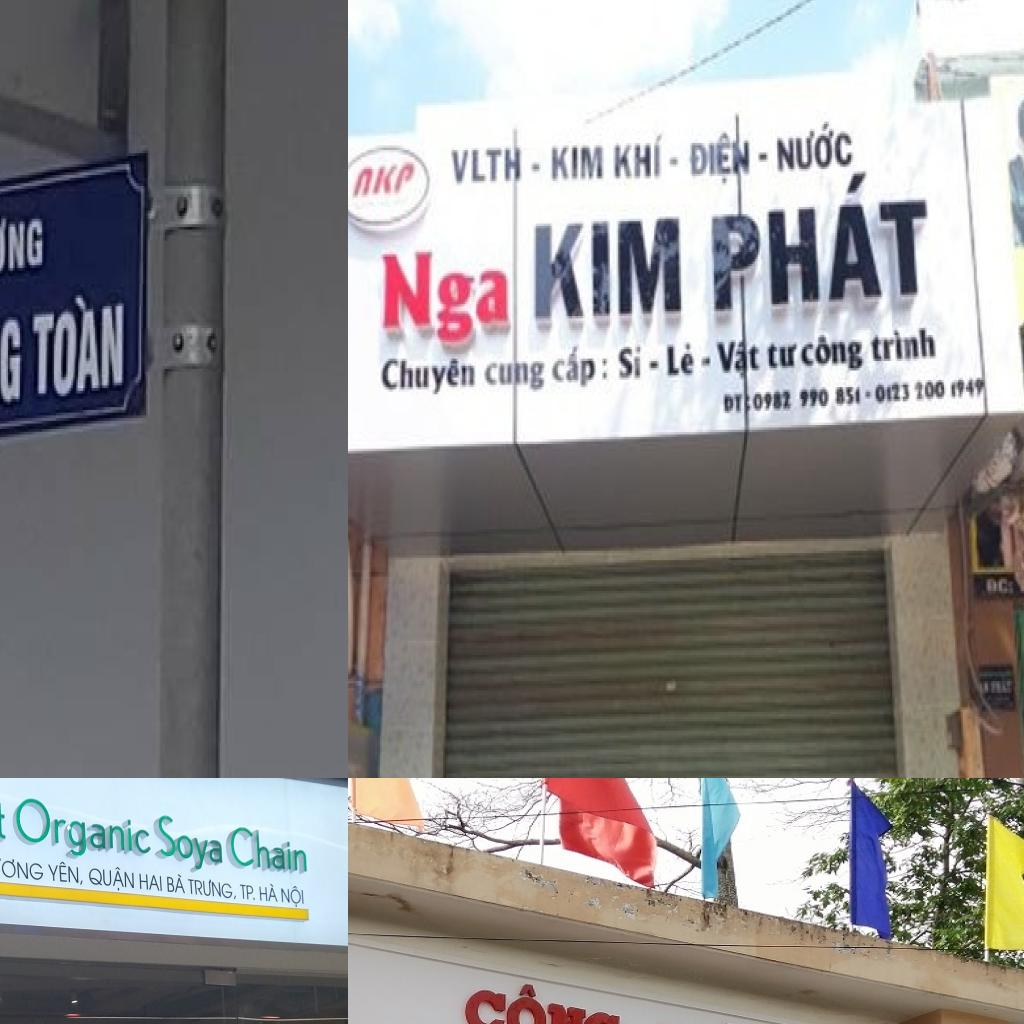text: (700, 164, 934, 321), (530, 207, 688, 328), (375, 240, 514, 347), (12, 794, 152, 866), (454, 968, 632, 1024), (772, 114, 856, 178), (226, 818, 310, 879), (378, 352, 478, 399), (152, 814, 224, 878), (0, 202, 49, 292), (750, 380, 864, 416), (686, 129, 755, 188), (873, 376, 988, 408), (446, 143, 527, 188), (0, 303, 28, 428), (348, 155, 422, 202), (797, 330, 867, 378), (867, 325, 941, 366), (612, 131, 666, 183), (547, 138, 607, 183), (481, 354, 548, 394), (712, 332, 764, 382), (550, 340, 598, 392), (88, 862, 136, 894), (664, 338, 698, 382), (0, 852, 45, 883), (764, 335, 799, 373), (614, 338, 644, 382), (186, 876, 238, 901), (46, 860, 84, 887), (278, 882, 308, 910), (983, 574, 1012, 600), (720, 389, 744, 418), (138, 870, 164, 894), (165, 870, 188, 894), (258, 881, 280, 904), (238, 880, 257, 903)
